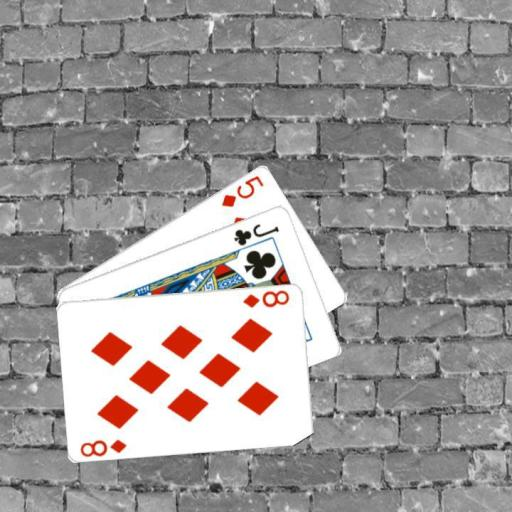5D: (219, 172, 266, 209)
8D: (240, 287, 291, 309), (78, 436, 129, 457)
JC: (231, 220, 281, 247)
